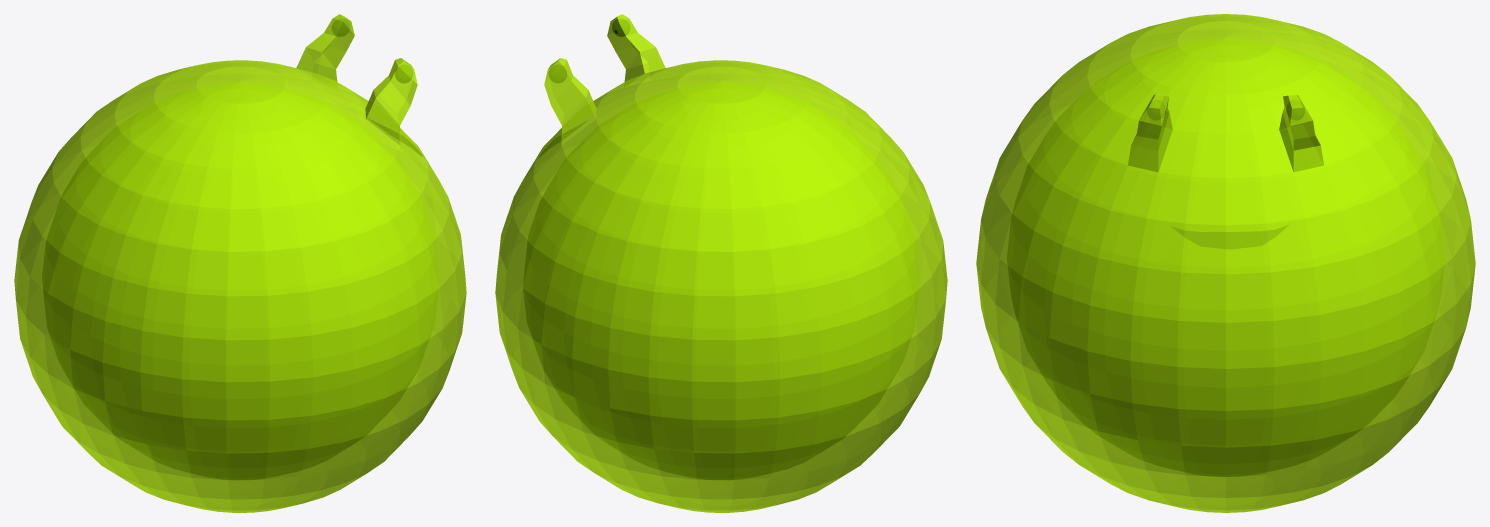
File: SlimeBall.fbx
3 renders of one model, left to right at view 1: azimuth 30°, elevation 25°; view 2: azimuth 150°, elevation 25°; view 3: azimuth 270°, elevation 25°, orthographic. The views are drawn at different scales.
Parts seen in each view (by area): view 1: SlimeGuy; view 2: SlimeGuy; view 3: SlimeGuy.
Boxes of the visible parts, <box> form: SlimeGuy: <box>14,14,466,512</box>; SlimeGuy: <box>495,14,947,512</box>; SlimeGuy: <box>976,14,1475,512</box>.
Bounding box in the file's own units: 228 × 234 × 228.
